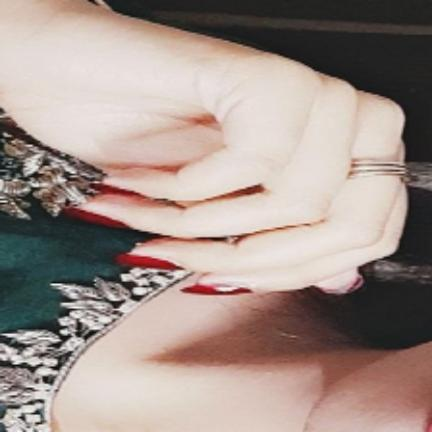Nail: (65, 207, 129, 228), (116, 253, 184, 270), (181, 285, 250, 294)
